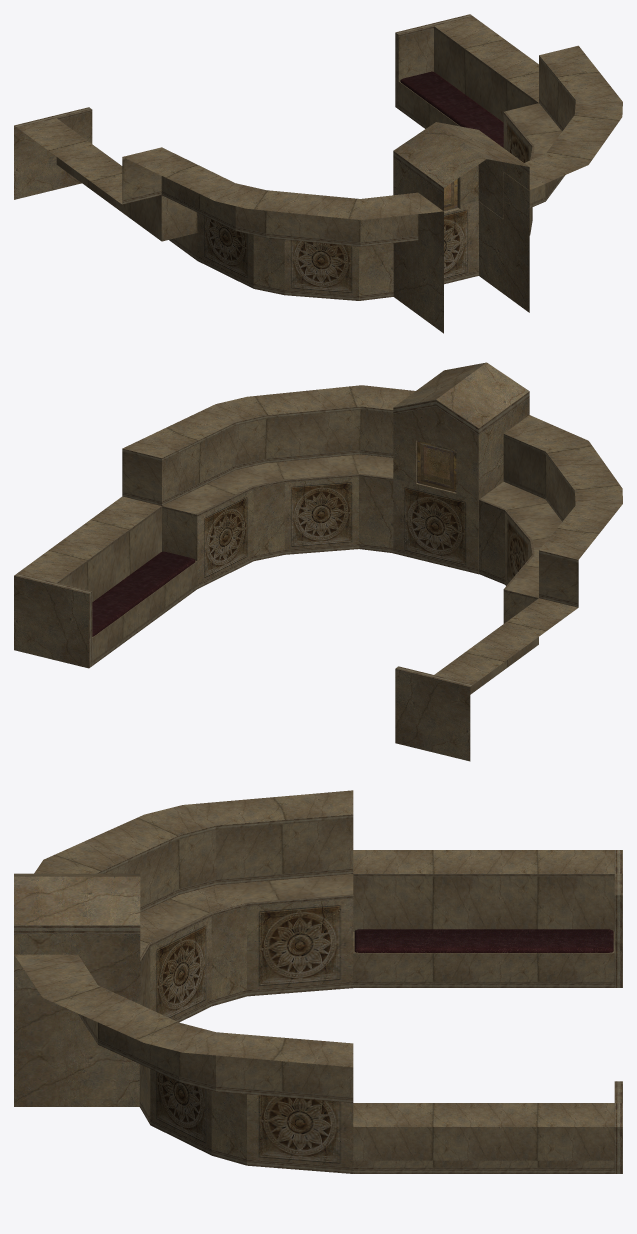
File: church_front.DAE
The picture shows the model from 3 angles, top to bottom: view 1: azimuth 30°, elevation 25°; view 2: azimuth 150°, elevation 25°; view 3: azimuth 270°, elevation 25°; orthographic projection. The views are drawn at different scales.
Visible parts, largest first — view 1: Box002, Box036; view 2: Box002, Box036, Object002; view 3: Box002, Box036.
Part boxes in pixels (x1,y1,x2,y2): Box002: (14, 14, 622, 333); Box036: (400, 71, 503, 147); Box002: (14, 362, 622, 761); Box036: (92, 551, 195, 636); Object002: (417, 441, 456, 492); Box002: (14, 790, 622, 1173); Box036: (354, 929, 613, 952).
Size of the model in its own units: 8.01 by 2.76 by 7.44.
